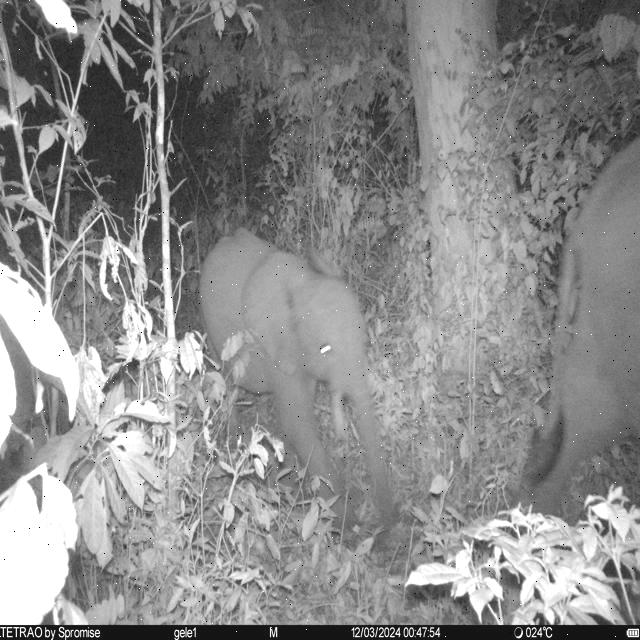calf: (199, 228, 397, 534)
ear: (240, 250, 320, 379)
elephant: (508, 135, 640, 520)
tusk: (330, 388, 350, 444)
